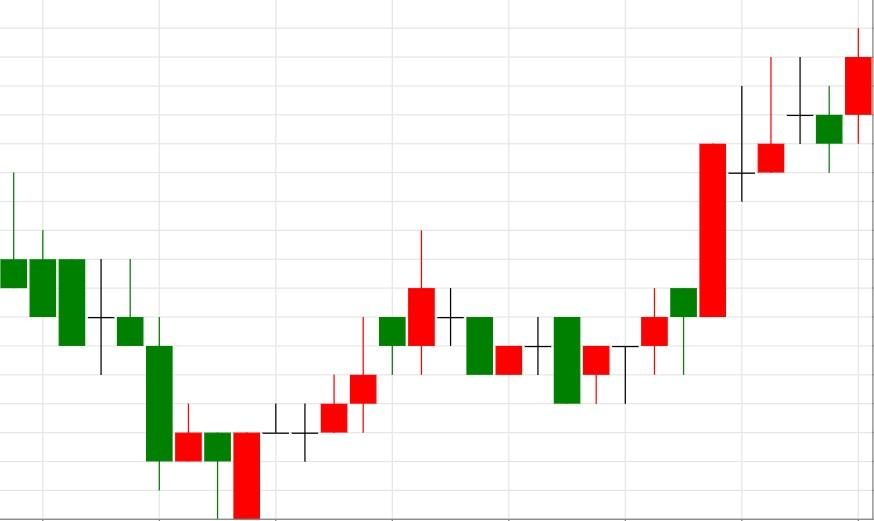bullish_engulfing_rise: (0, 171, 261, 520)
